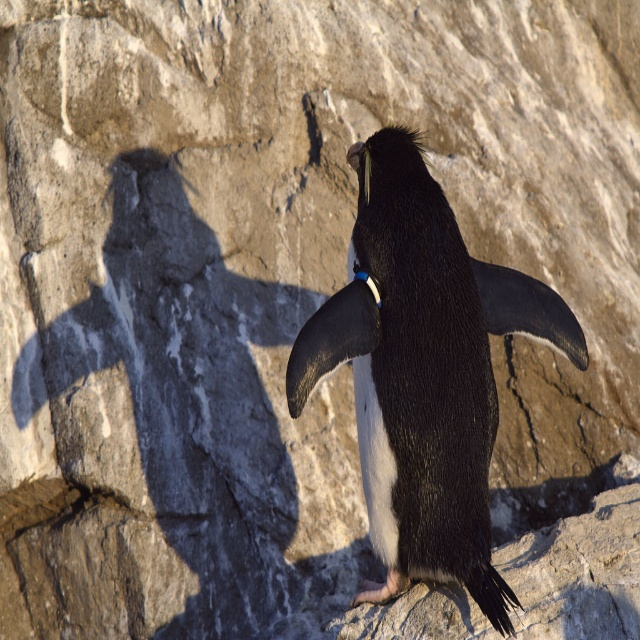Penguin: (285, 116, 594, 634)
